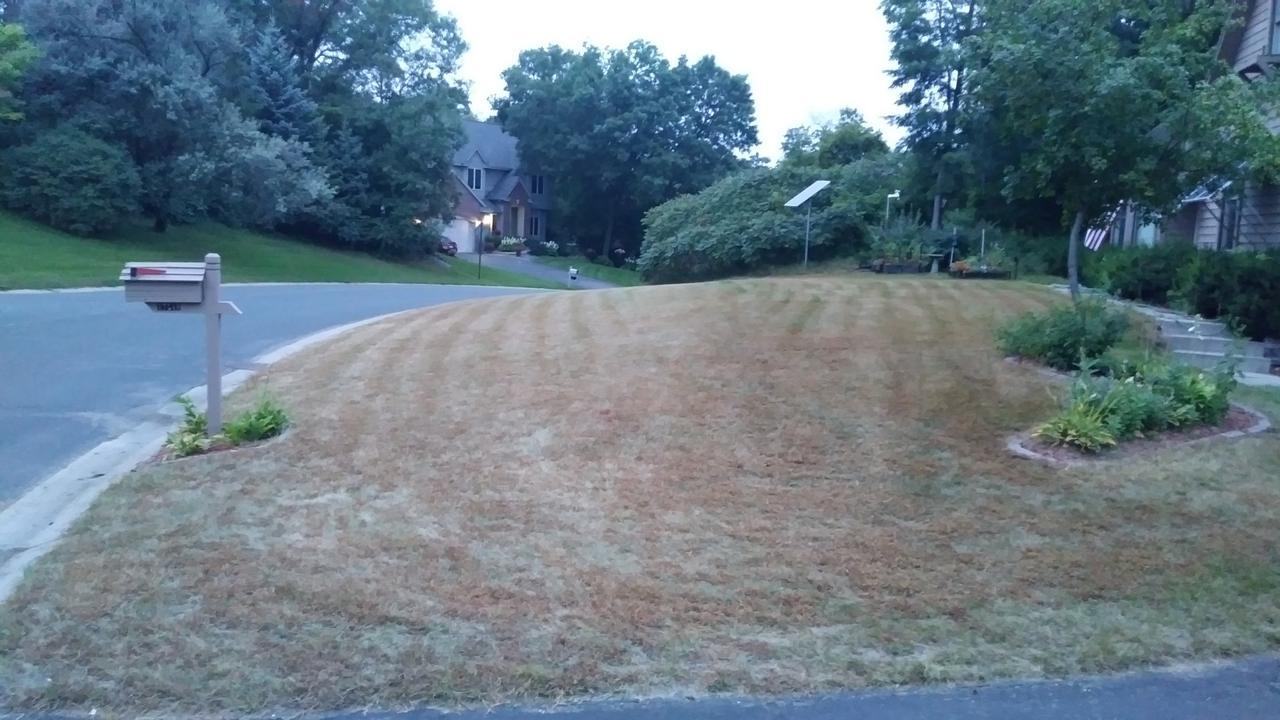crabgrass: (223, 408, 303, 457)
